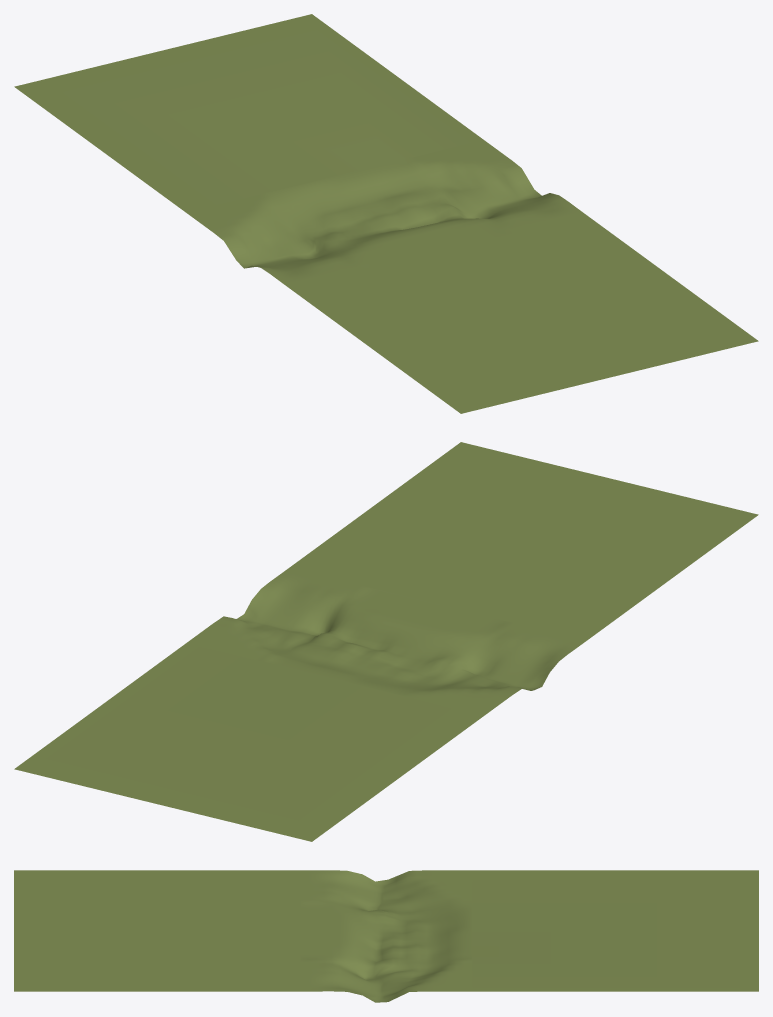
Rendered from 2_2 Tile_1_smooth.fbx.
The picture shows the model from 3 angles, top to bottom: view 1: azimuth 30°, elevation 25°; view 2: azimuth 150°, elevation 25°; view 3: azimuth 270°, elevation 25°; orthographic projection. The views are drawn at different scales.
Parts seen in each view (by area): view 1: Tile 7.002; view 2: Tile 7.002; view 3: Tile 7.002.
Boxes of the visible parts, x1,y1,x2,y2 form: Tile 7.002: (14, 14, 758, 413); Tile 7.002: (14, 442, 758, 841); Tile 7.002: (14, 870, 758, 1002).
Bounding box in the file's own units: 5000 × 329 × 12991.
